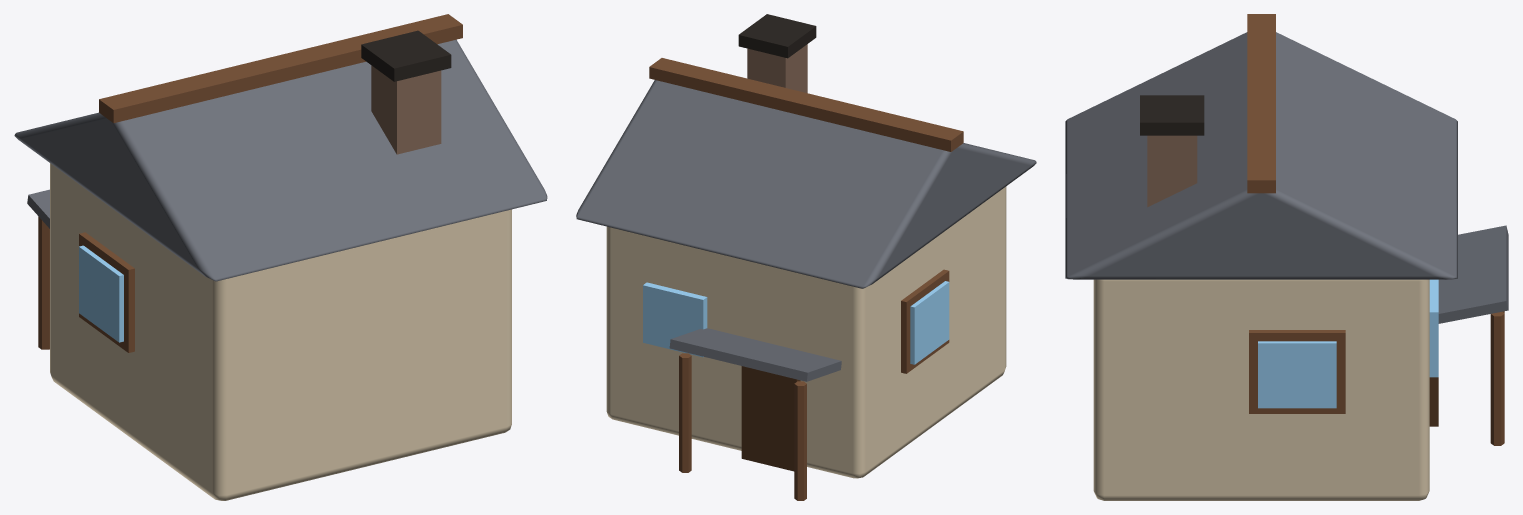
File: prop_house_2.glb
3 renders of one model, left to right at view 1: azimuth 30°, elevation 25°; view 2: azimuth 150°, elevation 25°; view 3: azimuth 270°, elevation 25°, orthographic. The views are drawn at different scales.
Parts seen in each view (by area): view 1: Walls, Roof, Ridge, Chimney, Window, ChimneyCap, WindowFrame, Post; view 2: Walls, Roof, Ridge, Door, Awning, WindowFront, Window, ChimneyCap, Chimney, Post.001, Post, WindowFrame; view 3: Roof, Walls, Window.001, Awning, Ridge, Chimney, WindowFrame.001, ChimneyCap, Post.001, WindowFront, Door.
Boxes of the visible parts, left/top/right/bottom form: Walls: left=50, top=163, right=511, bottom=500; Roof: left=14, top=39, right=547, bottom=281; Ridge: left=99, top=14, right=462, bottom=123; Chimney: left=371, top=65, right=441, bottom=154; Window: left=79, top=245, right=123, bottom=342; ChimneyCap: left=361, top=30, right=451, bottom=81; WindowFrame: left=79, top=232, right=134, bottom=352; Post: left=38, top=216, right=49, bottom=349; Walls: left=606, top=186, right=1006, bottom=478; Roof: left=576, top=80, right=1036, bottom=288; Ridge: left=649, top=58, right=963, bottom=151; Door: left=741, top=366, right=800, bottom=471; Awning: left=669, top=328, right=841, bottom=381; WindowFront: left=643, top=282, right=707, bottom=357; Window: left=910, top=281, right=949, bottom=364; ChimneyCap: left=738, top=14, right=816, bottom=58; Chimney: left=747, top=44, right=807, bottom=93; Post.001: left=679, top=353, right=691, bottom=472; Post: left=794, top=381, right=806, bottom=500; WindowFrame: left=901, top=269, right=949, bottom=373; Roof: left=1065, top=32, right=1457, bottom=279; Walls: left=1093, top=279, right=1429, bottom=500; Window.001: left=1258, top=341, right=1336, bottom=408; Awning: left=1438, top=225, right=1508, bottom=323; Ridge: left=1247, top=14, right=1275, bottom=193; Chimney: left=1147, top=135, right=1197, bottom=207; WindowFrame.001: left=1249, top=330, right=1345, bottom=413; ChimneyCap: left=1140, top=95, right=1204, bottom=135; Post.001: left=1490, top=312, right=1504, bottom=445; WindowFront: left=1429, top=279, right=1438, bottom=377; Door: left=1429, top=377, right=1438, bottom=426.
Size of the model in its own units: 1.1 by 1.12 by 1.24.
